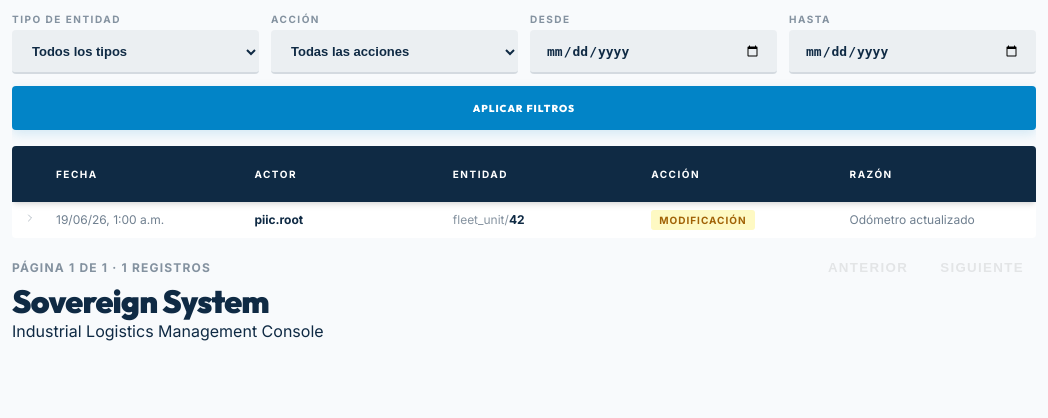
Test: AuditLogView › R4-C — filtros, paginación, toggle de diff y estado vacío de snapshot › expandir una fila sin datos de snapshot muestra el mensaje vacío
Click the row with test id "audit-row-audit-uuid-002" at (524, 220), box [12,202,1036,238]
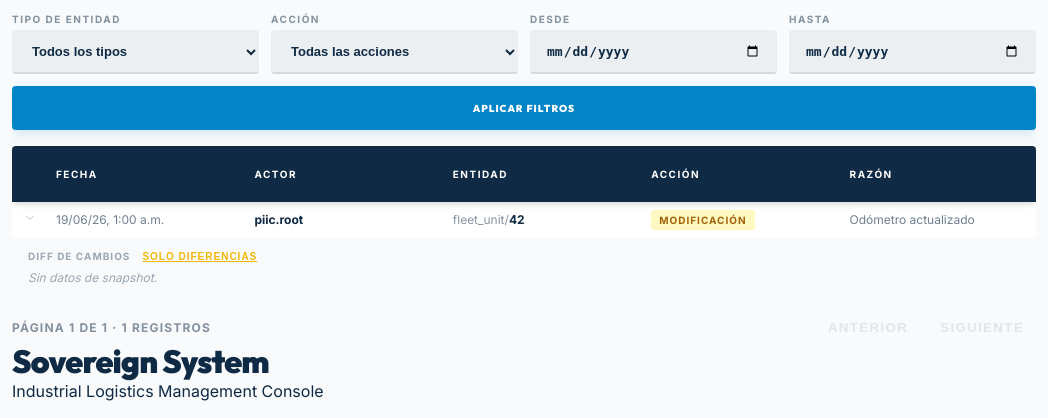
Expected: the text "Sin datos de snapshot." is shown, [28,270,157,285]
